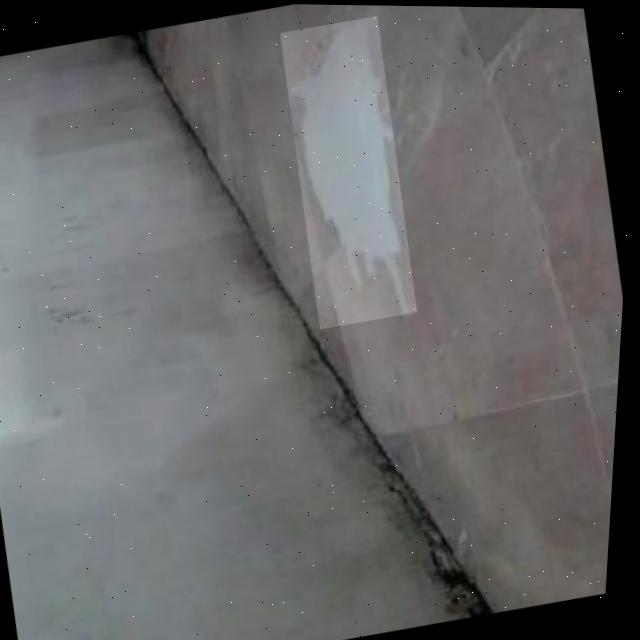spillage: (291, 17, 411, 312)
